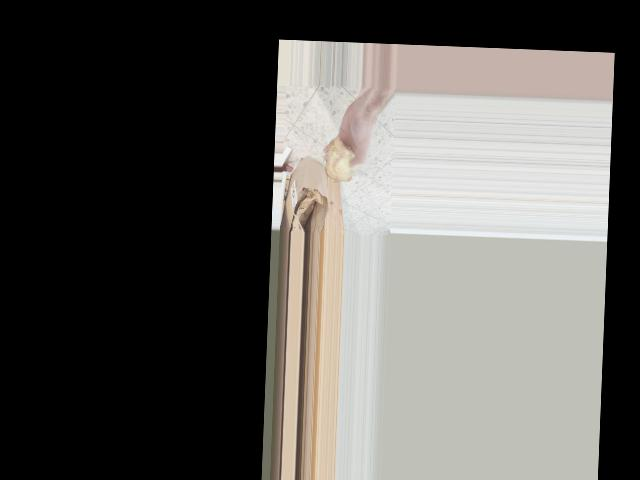onion: (324, 135, 361, 184)
